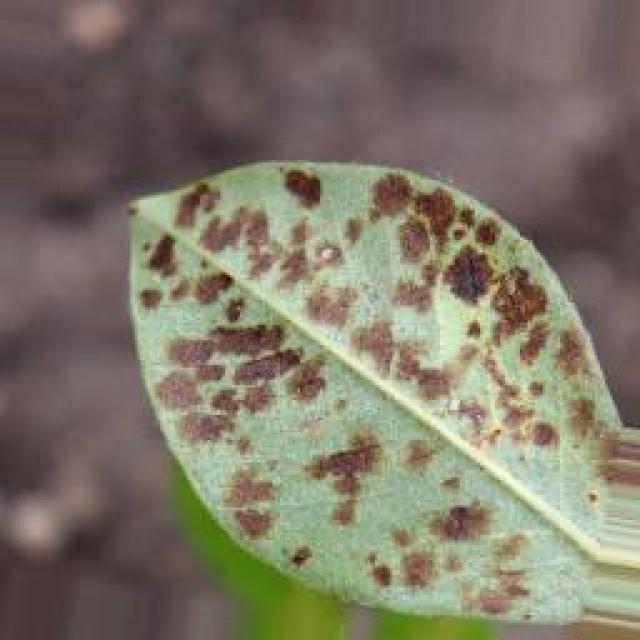Whitefly: (102, 174, 632, 629)
